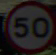Speed limit: (3, 2, 51, 45)
